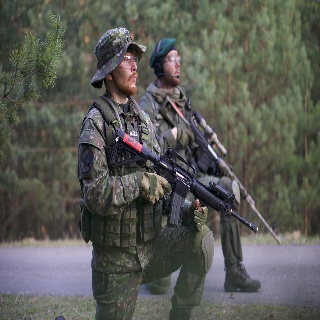rifle: (165, 93, 281, 246), (110, 123, 260, 234)
